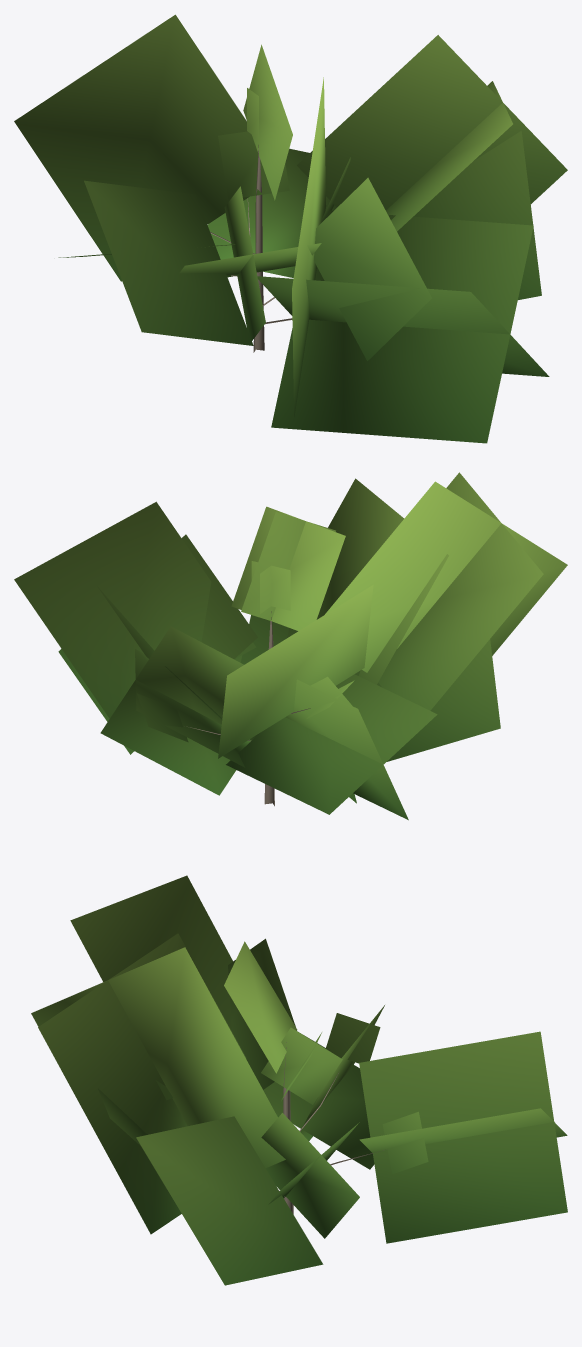
File: bush-b-liviano.glb
3 renders of one model, top to bottom at view 1: azimuth 30°, elevation 25°; view 2: azimuth 150°, elevation 25°; view 3: azimuth 270°, elevation 25°, orthographic. The views are drawn at different scales.
Parts seen in each view (by area): view 1: bush-b-liviano; view 2: bush-b-liviano; view 3: bush-b-liviano.
Part boxes in pixels (x1,y1,x2,y2): bush-b-liviano: (14, 14, 567, 443); bush-b-liviano: (14, 472, 567, 820); bush-b-liviano: (31, 875, 567, 1285).
Bounding box in the file's own units: 1.54 × 1.08 × 1.55.
